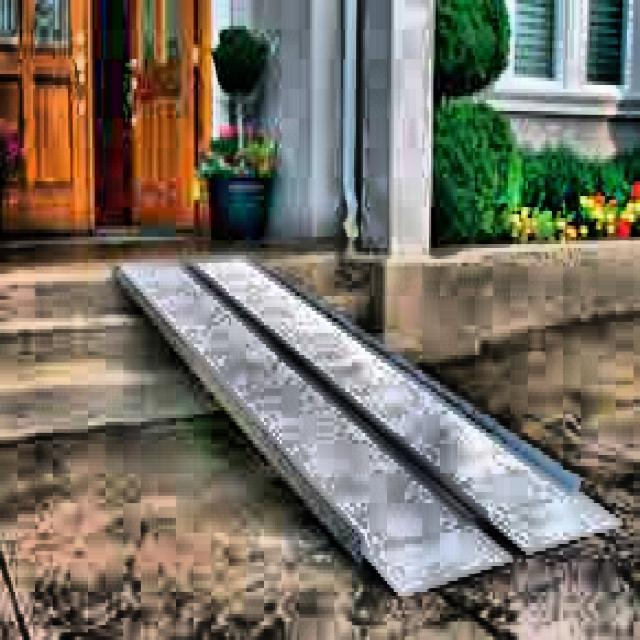escada: (0, 279, 123, 431)
